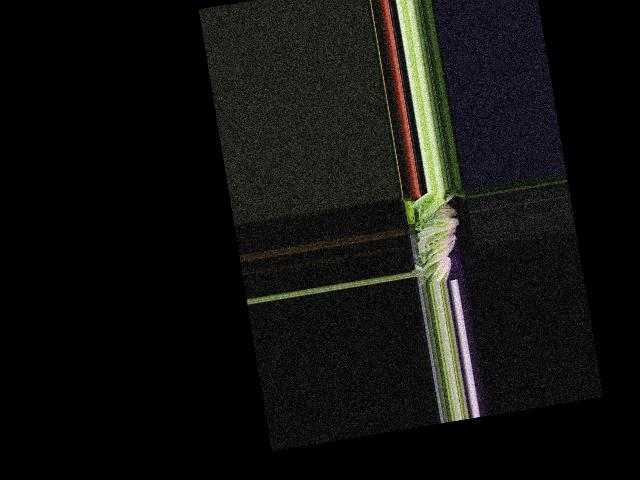lettuce: (422, 253, 455, 285)
